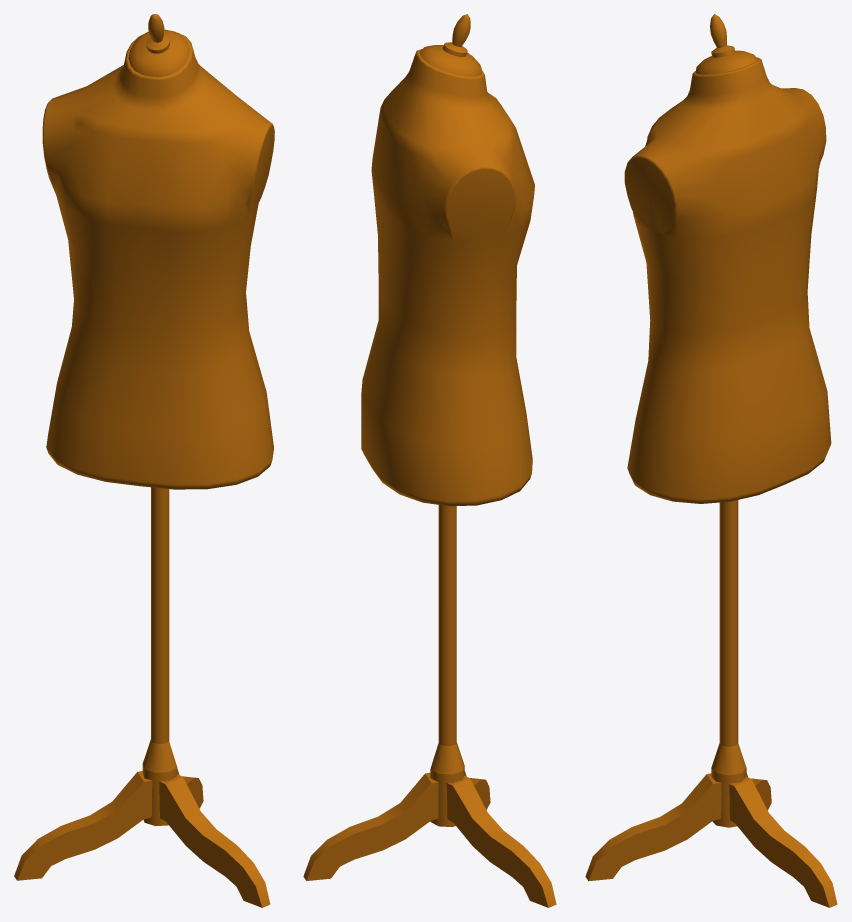
The model's file is Ma-no-canh (5.3, 5.1, 0.3).glb.
3 views of the same model, side by side, from view 1: azimuth 30°, elevation 25°; view 2: azimuth 150°, elevation 25°; view 3: azimuth 270°, elevation 25° (orthographic).
Parts seen in each view (by area): view 1: Dress.001; view 2: Dress.001; view 3: Dress.001.
Boxes of the visible parts, left/top/right/bottom form: Dress.001: left=14, top=14, right=274, bottom=907; Dress.001: left=303, top=14, right=556, bottom=907; Dress.001: left=585, top=14, right=837, bottom=907.
Bounding box in the file's own units: 0.5003 × 1.85 × 0.5017.
